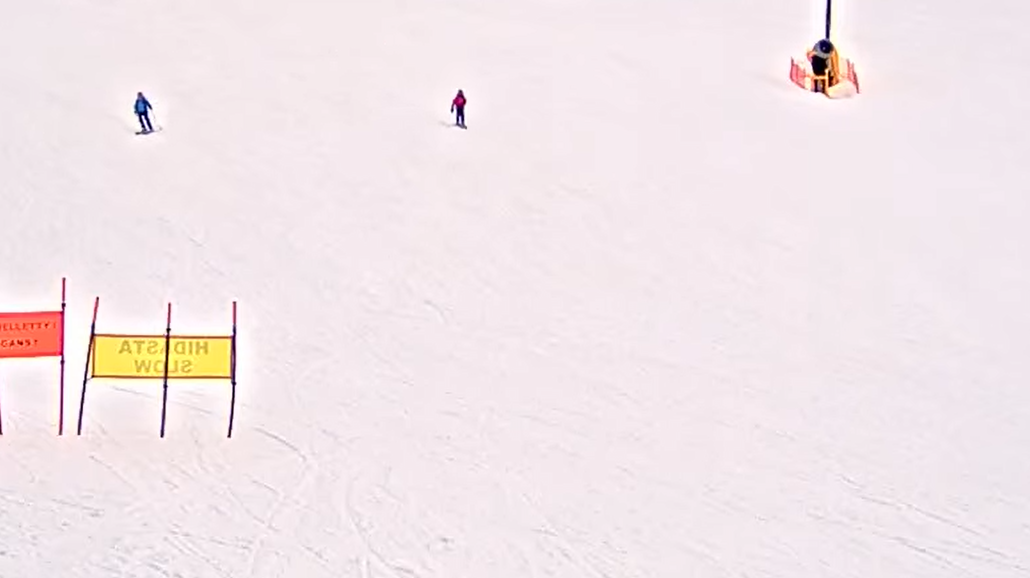skier: (125, 86, 168, 137), (444, 83, 473, 131)
